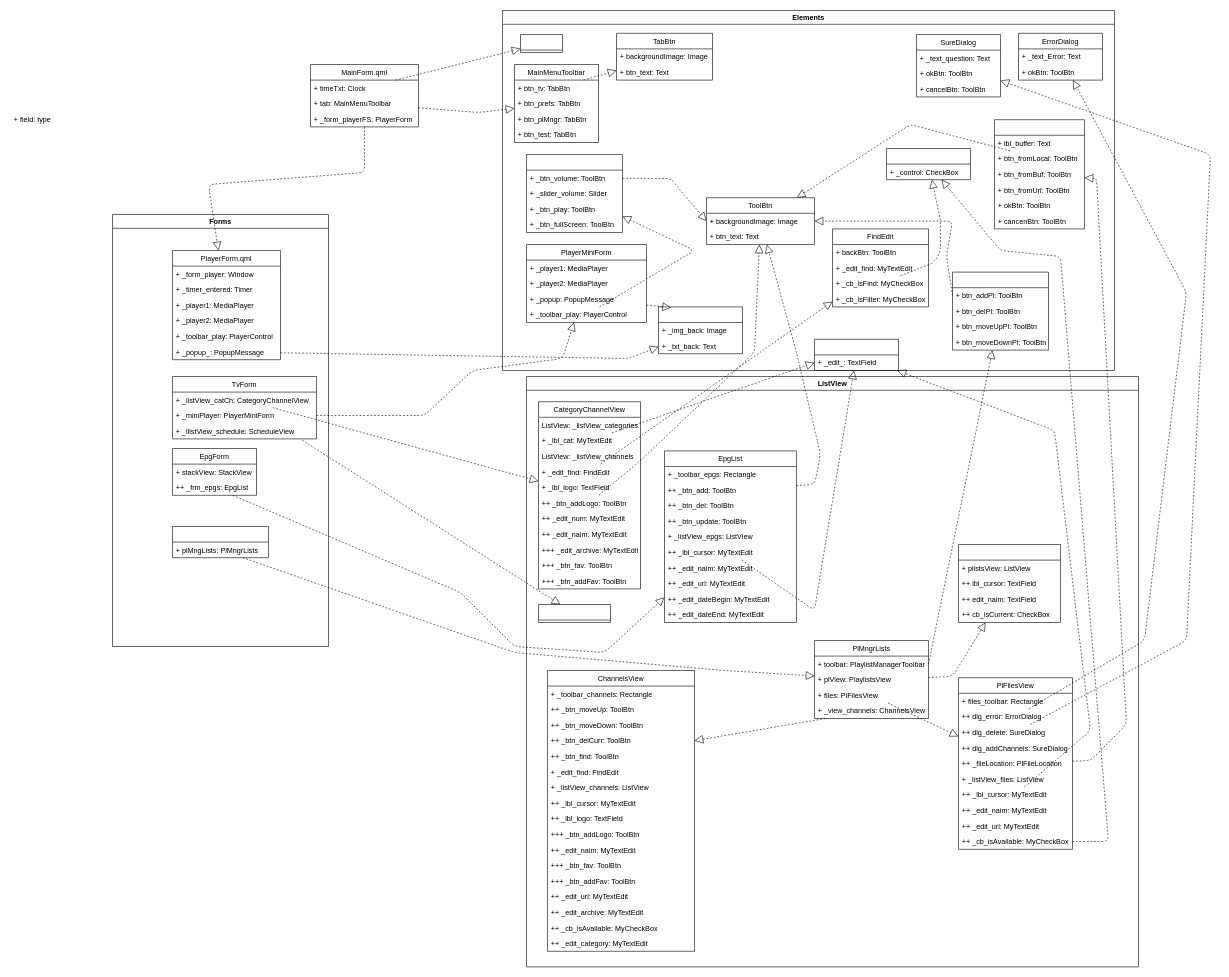
The diagram is 1229 pixels wide and 977 high, and some of its shapes have lost their labels. Each missing label, with the box of its shape:
Clock: (520, 34, 562, 52)
MyCheckBox: (886, 148, 970, 180)
MyTextEdit: (814, 339, 898, 370)
PlayerControl: (526, 154, 622, 232)
PlaylistManagerForm: (172, 526, 268, 558)
PlaylistManagerToolbar: (952, 272, 1048, 350)
PlaylistsView: (958, 544, 1060, 622)
PlFileLocation: (994, 119, 1084, 229)
PopupMessage: (658, 306, 742, 354)
ScheduleView: (538, 604, 610, 622)
